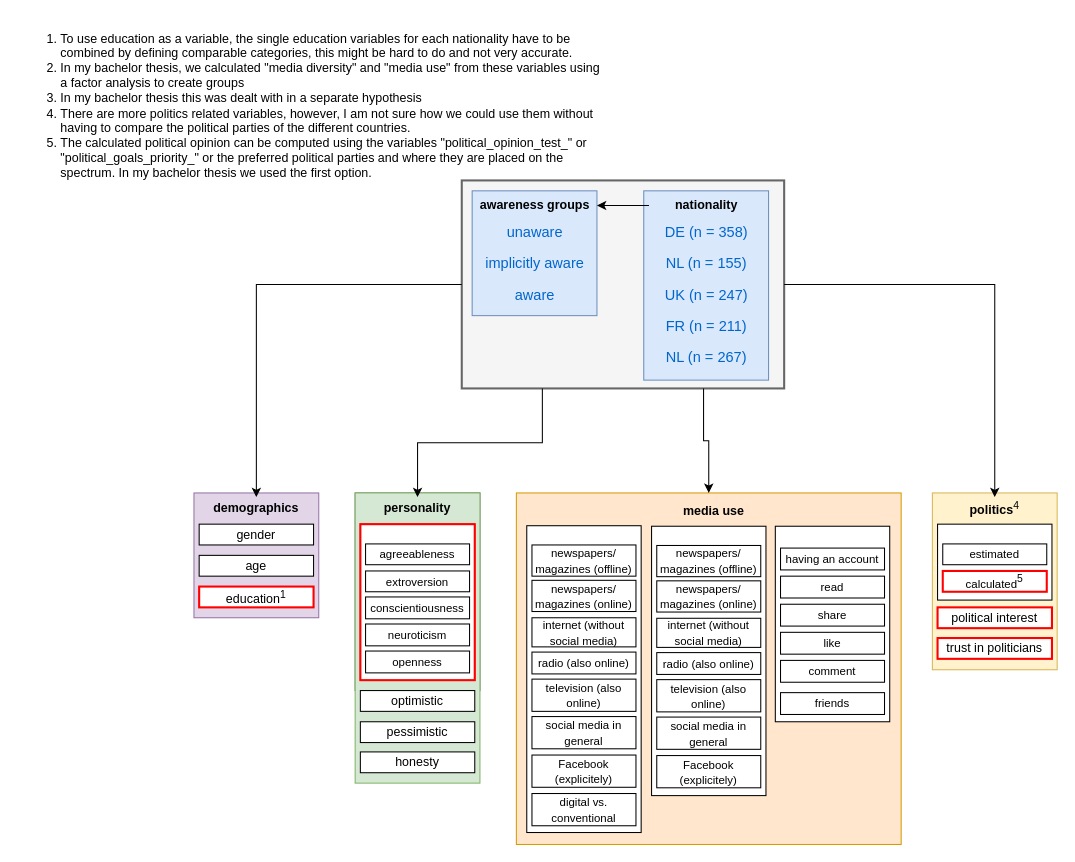
This 1075x862 diagram has some shape labels left out. The shapes that lost their labels are listed below. From the top down, each one's box as (x1, y1, x2, y2) in pixels, then its label:
(937, 523, 1052, 600): political opinion
(359, 523, 475, 681): Big Five
(774, 525, 890, 722): Facebook 3
(526, 525, 641, 833): frequency 2
(651, 525, 766, 796): importance
